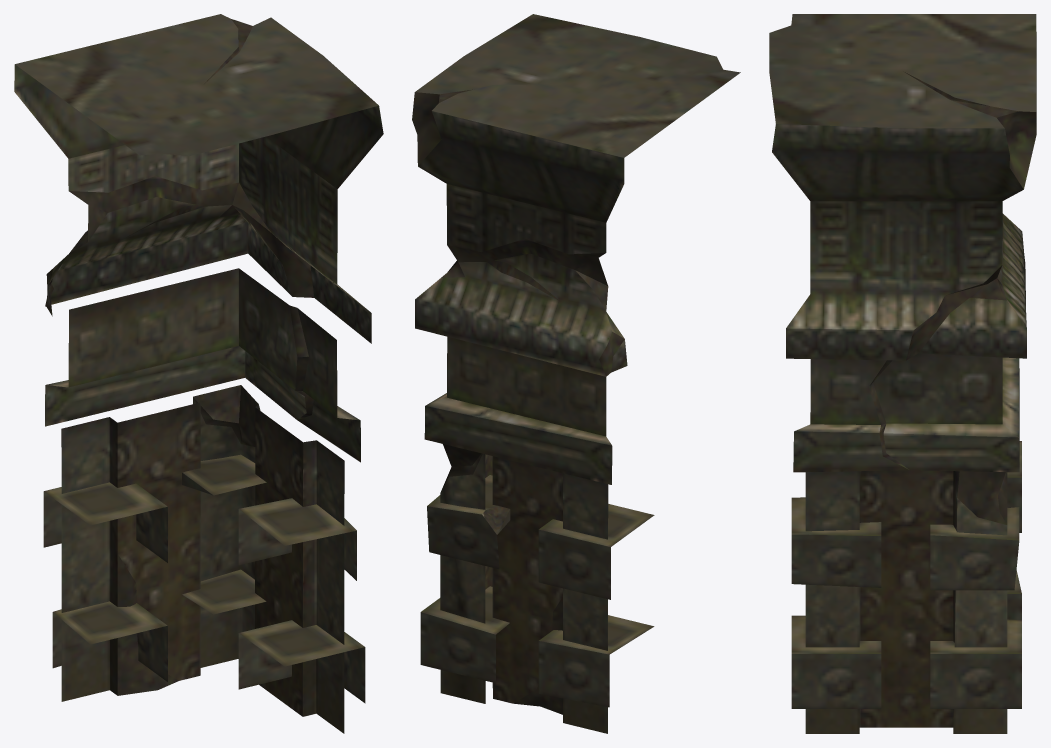
Rendered from JJS_DL_ShiZhu.FBX.
The picture shows the model from 3 angles, left to right: view 1: azimuth 30°, elevation 25°; view 2: azimuth 150°, elevation 25°; view 3: azimuth 270°, elevation 25°; orthographic projection. The views are drawn at different scales.
Parts seen in each view (by area): view 1: JJS_DL_ShiZhu; view 2: JJS_DL_ShiZhu; view 3: JJS_DL_ShiZhu.
Boxes of the visible parts, left/top/right/bottom form: JJS_DL_ShiZhu: left=14, top=14, right=383, bottom=733; JJS_DL_ShiZhu: left=412, top=14, right=740, bottom=733; JJS_DL_ShiZhu: left=769, top=14, right=1036, bottom=733.
Bounding box in the file's own units: 215 × 544 × 212.
